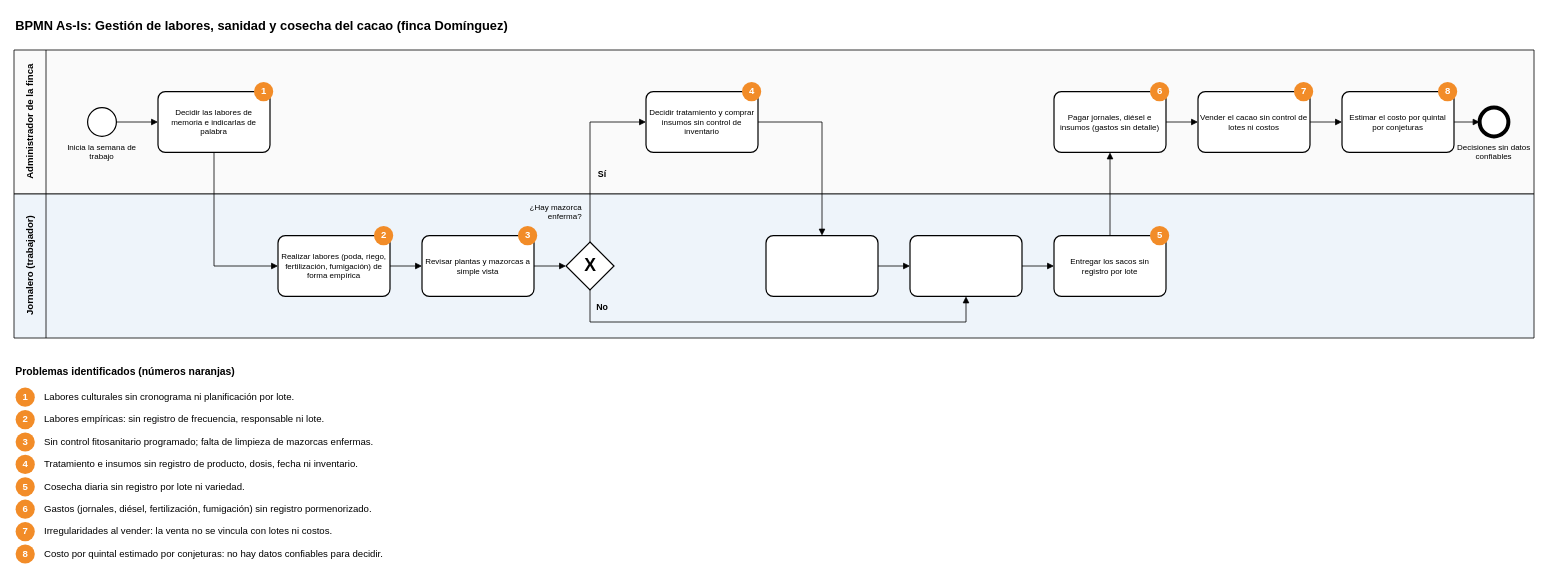
The diagram is 1556 pixels wide and 577 high, and some of its shapes have lost their labels. Here are the shapes that lost their labels. From the top down, the centre of each, then its label:
At (x=821, y=266): "Aplicar el producto (dosis a criterio propio)".
At (x=965, y=266): "Cosechar a diario".
